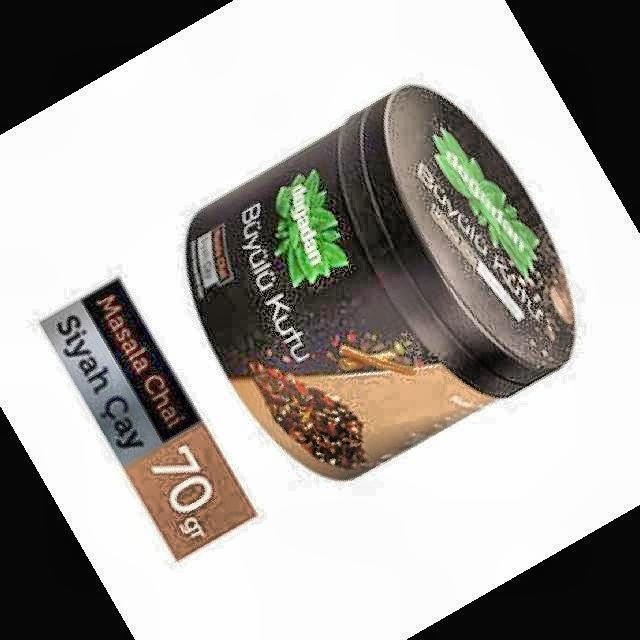plastic: (185, 85, 573, 477)
